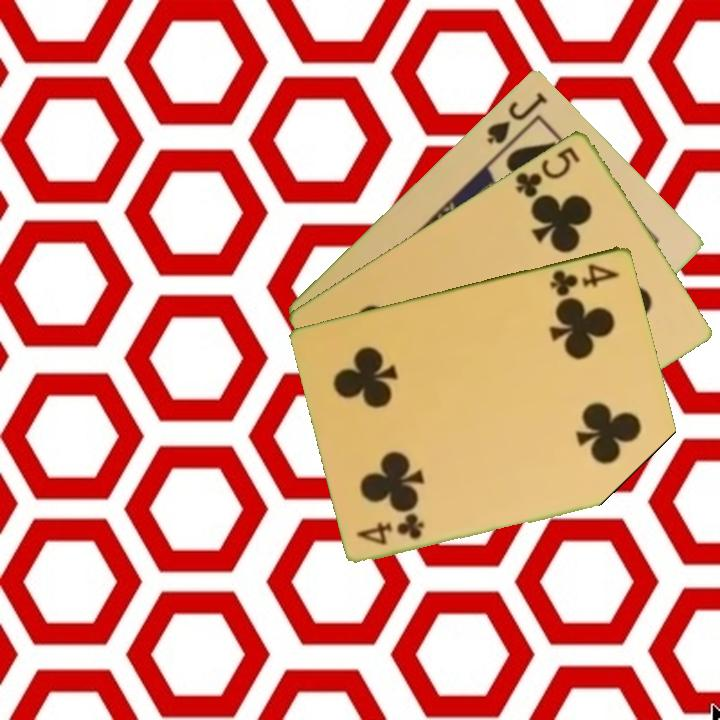4c: (546, 259, 622, 299), (353, 512, 427, 548)
5c: (511, 142, 584, 201)
Js: (483, 88, 551, 146)
